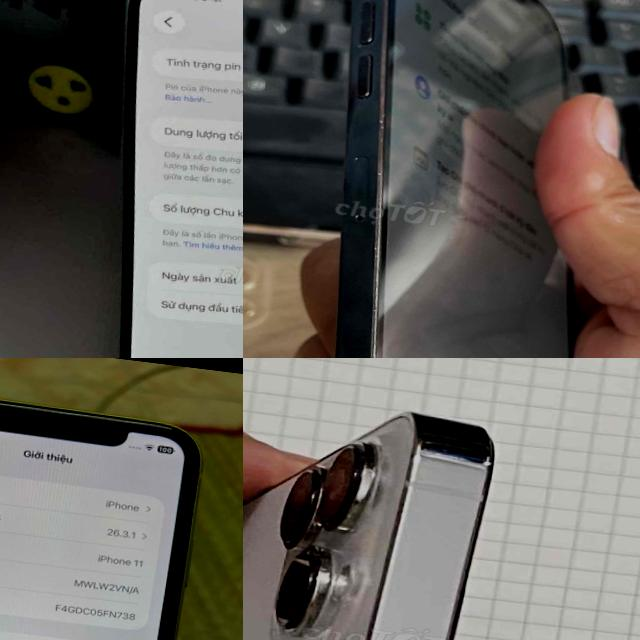gen_11: (0, 381, 211, 640)
gen_12_13: (261, 0, 640, 358), (243, 372, 498, 640)
gen_15: (62, 0, 243, 358)
scratch: (320, 31, 424, 274)
